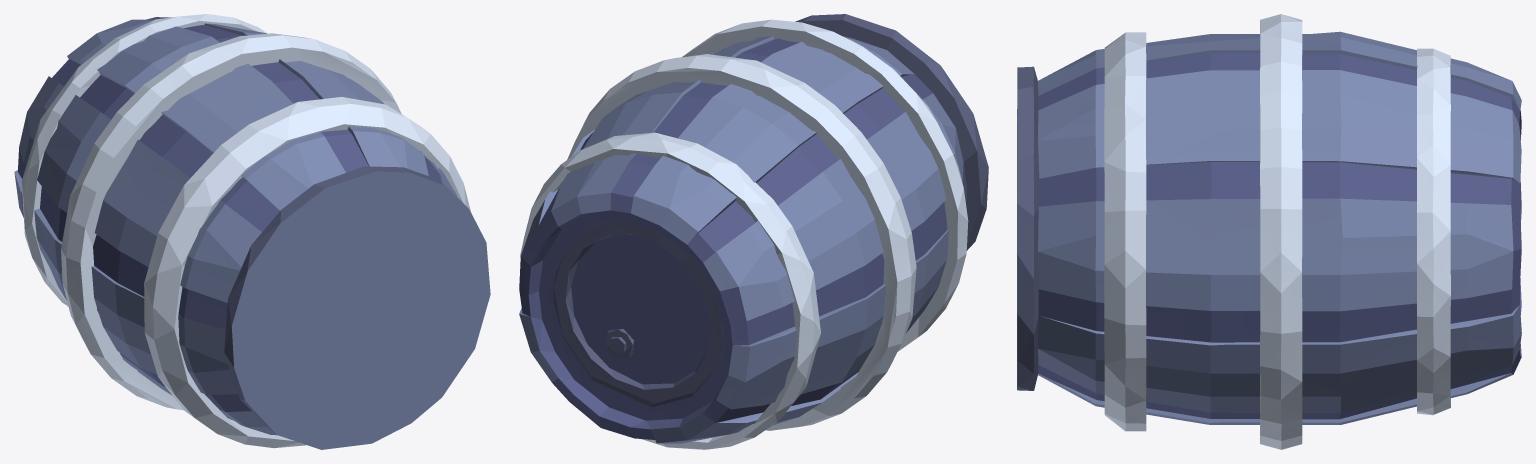
Rendered from Barrel.fbx.
3 views of the same model, side by side, from view 1: azimuth 30°, elevation 25°; view 2: azimuth 150°, elevation 25°; view 3: azimuth 270°, elevation 25° (orthographic). The views are drawn at different scales.
Visible parts, largest first — view 1: Barrel; view 2: Barrel; view 3: Barrel.
Boxes of the visible parts, x1,y1,x2,y2 form: Barrel: (14,14,490,449); Barrel: (519,14,988,449); Barrel: (1017,14,1521,449).
Bounding box in the file's own units: 222 × 222 × 256.
